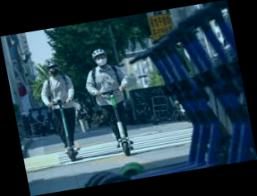helmet: (79, 44, 144, 161), (33, 59, 89, 166)
